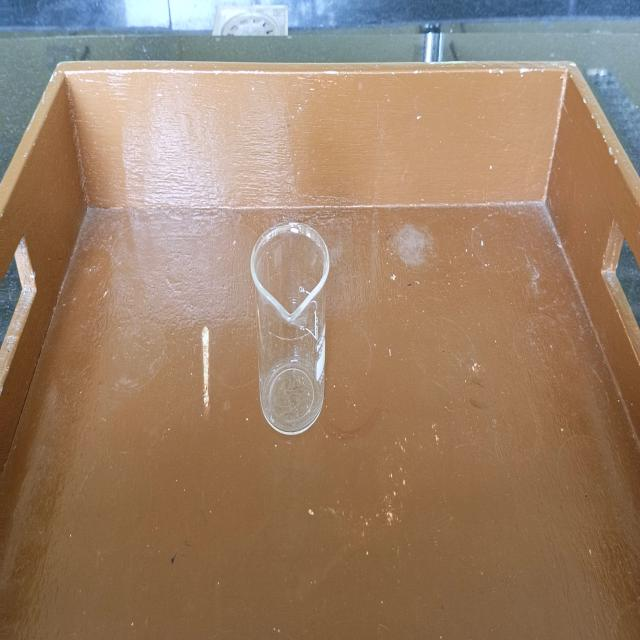beaker: (248, 215, 334, 444)
